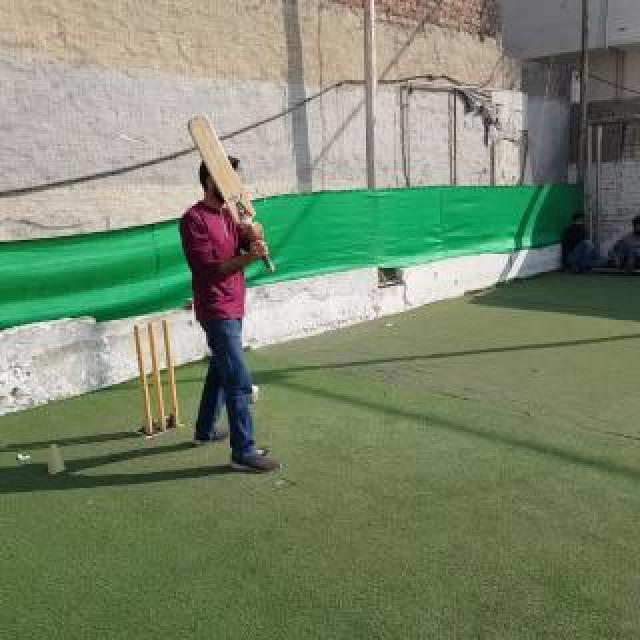bat: (188, 114, 276, 274)
